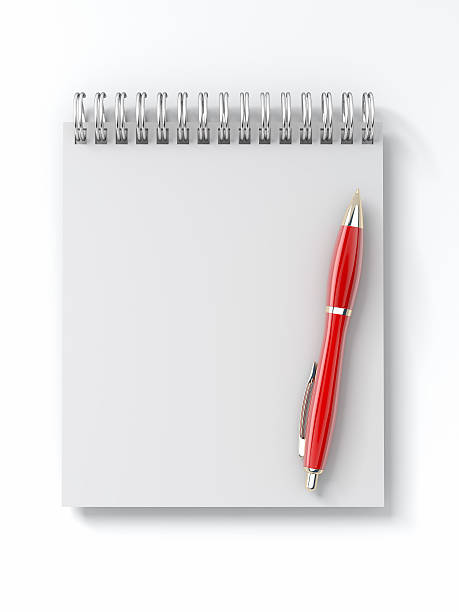pen: (293, 175, 368, 499)
